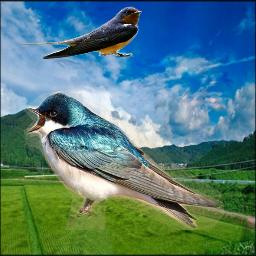Swallow: (24, 90, 224, 230), (18, 6, 142, 59)
